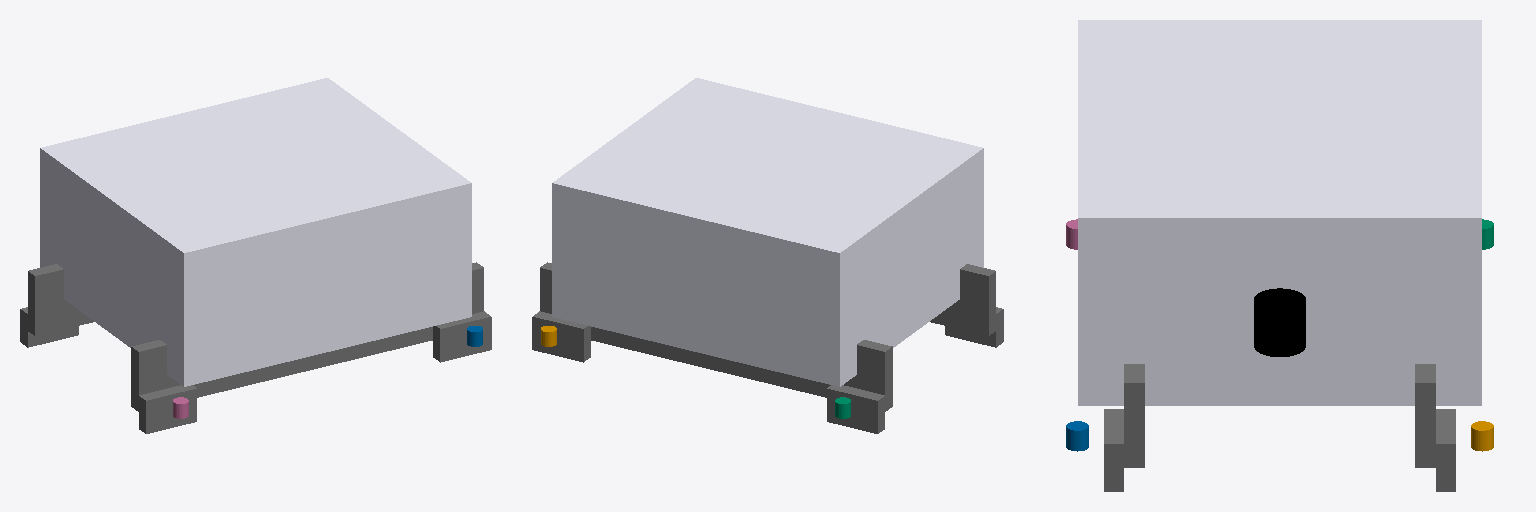
--- Facts derived from the render (not from the file) ---
3 views of the same robot in one strip: view 1: azimuth 30°, elevation 25°; view 2: azimuth 150°, elevation 25°; view 3: azimuth 270°, elevation 25° (orthographic).
Model pf1 with 20 links and 19 joints (4 continuous, 15 fixed), rooted at base_link, posed every joint at zero.
Visible links, largest first — view 1: base_link, frame1_br, frame1_bl, frame1_fr, frame2_br, frame2_fr, frame2_bl; view 2: base_link, frame1_bl, frame1_br, frame1_fl, frame2_bl, frame2_fl, frame2_br; view 3: base_link, front_lidar, frame1_fl, frame1_fr, frame2_fl, frame2_fr, right_front_wheel, left_front_wheel.
Boxes of the visible links, x1,y1,x2,y2 form: base_link: [40, 78, 471, 386]; frame1_br: [131, 340, 310, 411]; frame1_bl: [28, 264, 93, 335]; frame1_fr: [311, 262, 483, 369]; frame2_br: [139, 385, 196, 433]; frame2_fr: [433, 311, 491, 362]; frame2_bl: [20, 307, 78, 347]; base_link: [552, 78, 983, 386]; frame1_bl: [713, 340, 892, 411]; frame1_br: [930, 264, 995, 335]; frame1_fl: [540, 262, 712, 369]; frame2_bl: [827, 385, 884, 433]; frame2_fl: [532, 311, 590, 362]; frame2_br: [945, 307, 1003, 347]; base_link: [1078, 20, 1481, 405]; front_lidar: [1254, 288, 1305, 356]; frame1_fl: [1415, 364, 1435, 467]; frame1_fr: [1124, 364, 1144, 467]; frame2_fl: [1436, 409, 1455, 491]; frame2_fr: [1104, 409, 1123, 491]; right_front_wheel: [1066, 421, 1088, 451]; left_front_wheel: [1471, 421, 1493, 451].
Bounding box of the posed robot: 0.545 × 0.412 × 0.27 m (x, y, z).
Meshes: 1 distinct files referenced, 0 mesh visuals loaded (none loaded); not drawn: 4 (reference not matched to a file when rendering).

The robot description file, URDF, robot "pf1":
<?xml version="1.0" encoding="utf-8"?>
<!-- =================================================================================== -->
<!-- |    This document was autogenerated by xacro from pf1.xacro                      | -->
<!-- |    EDITING THIS FILE BY HAND IS NOT RECOMMENDED                                 | -->
<!-- =================================================================================== -->
<robot name="pf1">
  <material name="base_link">
    <color rgba="0.95 0.95 1.0 1.0"/>
  </material>
  <material name="lidar">
    <color rgba="0.0 0.0 0.0 1.0"/>
  </material>
  <material name="frame">
    <color rgba="0.5 0.5 0.5 1.0"/>
  </material>
  <material name="gear">
    <color rgba="0.0 0.4 1.0 1.0"/>
  </material>
  <material name="motor">
    <color rgba="0.3 0.3 0.3 1.0"/>
  </material>
  <material name="wheel">
    <color rgba="0.15 0.15 0.15 1.0"/>
  </material>
  <!-- base_footprint-->
  <!-- <link name="base_footprint"/>

  <joint name="base_joint" type="fixed">
    <parent link="base_footprint"/>
    <child link="base_link"/>
    <origin xyz="0.0 0.0 0.47" rpy="0 0 0"/>
  </joint> -->
  <!-- base_link -->
  <link name="base_link">
    <visual>
      <geometry>
        <box size="0.45 0.39 0.2"/>
      </geometry>
      <origin rpy="0 0 0" xyz="0 0 0"/>
      <material name="base_link"/>
    </visual>
    <inertial>
      <mass value="5.0"/>
      <inertia ixx="1.0" ixy="0.0" ixz="0.0" iyy="1.0" iyz="0.0" izz="1.0"/>
    </inertial>
  </link>
  <gazebo reference="base_link">
    <turnGravityOff>false</turnGravityOff>
  </gazebo>
  <!-- imu_link -->
  <joint name="imu_link_to_base_link" type="fixed">
    <parent link="base_link"/>
    <child link="imu_link"/>
    <origin rpy="0 0 0" xyz="-0 0 0"/>
  </joint>
  <link name="imu_link">
    <visual>
      <origin rpy="0 0 0" xyz="0 0 0.0"/>
      <geometry>
        <cylinder length="0.01" radius="0.005"/>
      </geometry>
      <material name="lidar"/>
    </visual>
  </link>
  <gazebo reference="imu_link">
    <gravity>true</gravity>
    <sensor name="imu_sensor" type="imu">
      <always_on>true</always_on>
      <update_rate>100</update_rate>
      <visualize>true</visualize>
      <topic>data</topic>
      <plugin filename="libgazebo_ros_imu_sensor.so" name="imu_plugin">
        <topicName>imu/data</topicName>
        <bodyName>imu_link</bodyName>
        <updateRateHZ>10.0</updateRateHZ>
        <gaussianNoise>0.0</gaussianNoise>
        <xyzOffset>0 0 0</xyzOffset>
        <rpyOffset>0 0 0</rpyOffset>
        <frameName>imu_link</frameName>
      </plugin>
      <pose>0 0 0 0 0 0</pose>
    </sensor>
  </gazebo>
  <!-- base_scan -->
  <joint name="base_link_to_base_scan" type="fixed">
    <parent link="base_link"/>
    <child link="base_scan"/>
    <origin rpy="0 0 0" xyz="-0 0 0"/>
  </joint>
  <link name="base_scan">
    <visual>
      <origin rpy="0 0 0" xyz="0 0 0.0"/>
      <geometry>
        <cylinder length="0.01" radius="0.005"/>
      </geometry>
      <material name="lidar"/>
    </visual>
  </link>
  <!-- front_lidar -->
  <joint name="front_lidar_to_base_scan" type="fixed">
    <parent link="base_scan"/>
    <child link="front_lidar"/>
    <origin rpy="0 0 0" xyz="0.25 0 0"/>
  </joint>
  <link name="front_lidar">
    <visual>
      <origin rpy="0 0 0" xyz="0 0 0.0"/>
      <geometry>
        <cylinder length="0.05" radius="0.025"/>
      </geometry>
      <material name="lidar"/>
    </visual>
  </link>
  <gazebo reference="hokuyo_sensor">
    <sensor name="base_link_hokuyo_sensor" type="gpu_ray">
      <pose>0 0 0 0 0 0</pose>
      <!--visualize>true</visualize-->
      <visualize>false</visualize>
      <update_rate>40</update_rate>
      <ray>
        <scan>
          <horizontal>
            <samples>400</samples>
            <resolution>1</resolution>
            <min_angle>-2.61799387799</min_angle>
            <max_angle>2.61799387799</max_angle>
            <!--<min_angle>-1.570796</min_angle>
            <max_angle>1.570796</max_angle>-->
          </horizontal>
        </scan>
        <range>
          <min>0.10</min>
          <max>30.0</max>
          <resolution>0.01</resolution>
        </range>
        <noise>
          <type>gaussian</type>
          <stddev>0.01</stddev>
        </noise>
      </ray>
      <plugin filename="libgazebo_ros_gpu_laser.so" name="gazebo_ros_lidar_controller">
        <topicName>/scan</topicName>
        <frameName>front_lidar</frameName>
      </plugin>
    </sensor>
  </gazebo>
  <!-- leg_fl -->
  <joint name="frame1_fl_to_base_link" type="fixed">
    <parent link="base_link"/>
    <child link="frame1_fl"/>
    <origin rpy="0 0 0" xyz="0 0.14 -0.1"/>
  </joint>
  <link name="frame1_fl">
    <visual>
      <geometry>
        <box size="0.27 0.02 0.09"/>
      </geometry>
      <origin rpy="0 0 0" xyz="0.135 0 0"/>
      <material name="frame"/>
    </visual>
  </link>
  <joint name="frame2_fl_to_frame1_fl" type="fixed">
    <parent link="frame1_fl"/>
    <child link="frame2_fl"/>
    <origin rpy="0 0 0" xyz="0.23 0.02 -0.045"/>
  </joint>
  <link name="frame2_fl">
    <visual>
      <geometry>
        <box size="0.08 0.02 0.05"/>
      </geometry>
      <origin rpy="0 0 0" xyz="0 0 0"/>
      <material name="frame"/>
    </visual>
  </link>
  <!-- <joint name="gear_fl_to_frame2_fl" type="fixed">
    <parent link="frame2_fl"/>
    <child  link="gear_fl"/>
    <origin xyz="0 0.035 -0.06" rpy="0 0 0"/>
  </joint>
  <link name="gear_fl">
    <visual>
      <geometry>
        <box size="0.075 0.09 0.07"/>
      </geometry>
      <origin xyz="0 0 0" rpy="0 0 0"/>
      <material name="gear"/>
    </visual>
  </link>

  <joint name="frame3_fl_to_gear_fl" type="revolute">
    <parent link="gear_fl"/>
    <child  link="frame3_fl"/>
    <axis xyz="0 0 1"/>
    <origin xyz="0 0 -0.08" rpy="0 0 0"/>
    <limit lower="-3.1415" upper="3.1415" effort="0" velocity="0"/>
  </joint>
  <link name="frame3_fl">
    <visual>
      <geometry>
        <box size="0.075 0.09 0.09"/>
      </geometry>
      <origin xyz="0 0 0" rpy="0 0 0"/>
      <material name="frame"/>
    </visual>
  </link>

  <joint name="motor_fl_to_frame3_fl" type="fixed">
    <parent link="frame3_fl"/>
    <child  link="motor_fl"/>
    <origin xyz="0 -0.02 -0.09" rpy="0 0 0"/>
  </joint>
  <link name="motor_fl">
    <visual>
      <geometry>
        <box size="0.075 0.09 0.09"/>
      </geometry>
      <material name="motor"/>
    </visual>
  </link> 

 <joint name="wheel_fl_to_motor_fl" type="revolute">
    <parent link="motor_fl"/>
    <child  link="wheel_fl"/>
    <origin xyz="0 0.09 0" rpy="0 0 0"/>
    <axis xyz="0 1 0"/>
    <limit lower="-3.1415" upper="3.1415" effort="0" velocity="0"/>
  </joint>
  <link name="wheel_fl">
    <visual>
      <geometry>
        <cylinder length="0.09" radius="0.1"/>
      </geometry>
      <origin xyz="0 0 0" rpy="1.57 0 0"/>
      <material name="wheel"/>
    </visual>
  </link> -->
  <!-- leg_bl : mirror leg_fl to the y axis -->
  <joint name="frame1_bl_to_base_link" type="fixed">
    <parent link="base_link"/>
    <child link="frame1_bl"/>
    <origin rpy="0 0 0" xyz="0 0.14 -0.1"/>
  </joint>
  <link name="frame1_bl">
    <visual>
      <geometry>
        <box size="0.27 0.02 0.09"/>
      </geometry>
      <origin rpy="0 0 0" xyz="-0.135 0 0"/>
      <material name="frame"/>
    </visual>
  </link>
  <joint name="frame2_bl_to_frame1_bl" type="fixed">
    <parent link="frame1_bl"/>
    <child link="frame2_bl"/>
    <origin rpy="0 0 0" xyz="-0.23 0.02 -0.045"/>
  </joint>
  <link name="frame2_bl">
    <visual>
      <geometry>
        <box size="0.08 0.02 0.05"/>
      </geometry>
      <origin rpy="0 0 0" xyz="0 0 0"/>
      <material name="frame"/>
    </visual>
  </link>
  <!-- <joint name="gear_bl_to_frame2_bl" type="fixed">
    <parent link="frame2_bl"/>
    <child  link="gear_bl"/>
    <origin xyz="0 0.035 -0.06" rpy="0 0 0"/>
  </joint>
  <link name="gear_bl">
    <visual>
      <geometry>
        <box size="0.075 0.09 0.07"/>
      </geometry>
      <origin xyz="0 0 0" rpy="0 0 0"/>
      <material name="gear"/>
    </visual>
  </link>

  <joint name="frame3_bl_to_gear_bl" type="revolute">
    <parent link="gear_bl"/>
    <child  link="frame3_bl"/>
    <axis xyz="0 0 1"/>
    <origin xyz="0 0 -0.08" rpy="0 0 0"/>
    <limit lower="-3.1415" upper="3.1415" effort="0" velocity="0"/>
  </joint>
  <link name="frame3_bl">
    <visual>
      <geometry>
        <box size="0.075 0.09 0.09"/>
      </geometry>
      <origin xyz="0 0 0" rpy="0 0 0"/>
      <material name="frame"/>
    </visual>
  </link>

  <joint name="motor_bl_to_frame3_bl" type="fixed">
    <parent link="frame3_bl"/>
    <child  link="motor_bl"/>
    <origin xyz="0 -0.02 -0.09" rpy="0 0 0"/>
  </joint>
  <link name="motor_bl">
    <visual>
      <geometry>
        <box size="0.075 0.09 0.09"/>
      </geometry>
      <material name="motor"/>
    </visual>
  </link>

  <joint name="wheel_bl_to_motor_bl" type="revolute">
    <parent link="motor_bl"/>
    <child  link="wheel_bl"/>
    <origin xyz="0 0.09 0" rpy="0 0 0"/>
    <axis xyz="0 1 0"/>
    <limit lower="-3.1415" upper="3.1415" effort="0" velocity="0"/>
  </joint>
  <link name="wheel_bl">
    <visual>
      <geometry>
        <cylinder length="0.09" radius="0.1"/>
      </geometry>
      <origin xyz="0 0 0" rpy="1.57 0 0"/>
      <material name="wheel"/>
    </visual>
  </link> -->
  <!-- leg_fr -->
  <joint name="frame1_fr_to_base_link" type="fixed">
    <parent link="base_link"/>
    <child link="frame1_fr"/>
    <origin rpy="0 0 0" xyz="0 -0.14 -0.1"/>
  </joint>
  <link name="frame1_fr">
    <visual>
      <geometry>
        <box size="0.27 0.02 0.09"/>
      </geometry>
      <origin rpy="0 0 0" xyz="0.135 0 0"/>
      <material name="frame"/>
    </visual>
  </link>
  <joint name="frame2_fr_to_frame1_fr" type="fixed">
    <parent link="frame1_fr"/>
    <child link="frame2_fr"/>
    <origin rpy="0 0 0" xyz="0.23 -0.02 -0.045"/>
  </joint>
  <link name="frame2_fr">
    <visual>
      <geometry>
        <box size="0.08 0.02 0.05"/>
      </geometry>
      <origin rpy="0 0 0" xyz="0 0 0"/>
      <material name="frame"/>
    </visual>
  </link>
  <!-- <joint name="gear_fr_to_frame2_fr" type="fixed">
    <parent link="frame2_fr"/>
    <child  link="gear_fr"/>
    <origin xyz="0 -0.035 -0.06" rpy="0 0 0"/>
  </joint>
  <link name="gear_fr">
    <visual>
      <geometry>
        <box size="0.075 0.09 0.07"/>
      </geometry>
      <origin xyz="0 0 0" rpy="0 0 0"/>
      <material name="gear"/>
    </visual>
  </link>

  <joint name="frame3_fr_to_gear_fr" type="revolute">
    <parent link="gear_fr"/>
    <child  link="frame3_fr"/>
    <axis xyz="0 0 1"/>
    <origin xyz="0 0 -0.08" rpy="0 0 0"/>
    <limit lower="-3.1415" upper="3.1415" effort="0" velocity="0"/>
  </joint>
  <link name="frame3_fr">
    <visual>
      <geometry>
        <box size="0.075 0.09 0.09"/>
      </geometry>
      <origin xyz="0 0 0" rpy="0 0 0"/>
      <material name="frame"/>
    </visual>
  </link>

  <joint name="motor_fr_to_frame3_fr" type="fixed">
    <parent link="frame3_fr"/>
    <child  link="motor_fr"/>
    <origin xyz="0 0.02 -0.09" rpy="0 0 0"/>
  </joint>
  <link name="motor_fr">
    <visual>
      <geometry>
        <box size="0.075 0.09 0.09"/>
      </geometry>
      <material name="motor"/>
    </visual>
  </link>

  <joint name="wheel_fr_to_motor_fr" type="revolute">
    <parent link="motor_fr"/>
    <child  link="wheel_fr"/>
    <origin xyz="0 -0.09 0" rpy="0 0 0"/>
    <axis xyz="0 1 0"/>
    <limit lower="-3.1415" upper="3.1415" effort="0" velocity="0"/>
  </joint>
  <link name="wheel_fr">
    <visual>
      <geometry>
        <cylinder length="0.09" radius="0.1"/>
      </geometry>
      <origin xyz="0 0 0" rpy="1.57 0 0"/>
      <material name="wheel"/>
    </visual>
  </link> -->
  <!-- leg_br -->
  <joint name="frame1_br_to_base_link" type="fixed">
    <parent link="base_link"/>
    <child link="frame1_br"/>
    <origin rpy="0 0 0" xyz="0 -0.14 -0.1"/>
  </joint>
  <link name="frame1_br">
    <visual>
      <geometry>
        <box size="0.27 0.02 0.09"/>
      </geometry>
      <origin rpy="0 0 0" xyz="-0.135 0 0"/>
      <material name="frame"/>
    </visual>
  </link>
  <joint name="frame2_br_to_frame1_br" type="fixed">
    <parent link="frame1_br"/>
    <child link="frame2_br"/>
    <origin rpy="0 0 0" xyz="-0.23 -0.02 -0.045"/>
  </joint>
  <link name="frame2_br">
    <visual>
      <geometry>
        <box size="0.08 0.02 0.05"/>
      </geometry>
      <origin rpy="0 0 0" xyz="0 0 0"/>
      <material name="frame"/>
    </visual>
  </link>
  <!-- <joint name="gear_br_to_frame2_br" type="fixed">
    <parent link="frame2_br"/>
    <child  link="gear_br"/>
    <origin xyz="0 -0.035 -0.06" rpy="0 0 0"/>
  </joint>
  <link name="gear_br">
    <visual>
      <geometry>
        <box size="0.075 0.09 0.07"/>
      </geometry>
      <origin xyz="0 0 0" rpy="0 0 0"/>
      <material name="gear"/>
    </visual>
  </link>

  <joint name="frame3_br_to_gear_br" type="revolute">
    <parent link="gear_br"/>
    <child  link="frame3_br"/>
    <axis xyz="0 0 1"/>
    <origin xyz="0 0 -0.08" rpy="0 0 0"/>
    <limit lower="-3.1415" upper="3.1415" effort="0" velocity="0"/>
  </joint>
  <link name="frame3_br">
    <visual>
      <geometry>
        <box size="0.075 0.09 0.09"/>
      </geometry>
      <origin xyz="0 0 0" rpy="0 0 0"/>
      <material name="frame"/>
    </visual>
  </link>

  <joint name="motor_br_to_frame3_br" type="fixed">
    <parent link="frame3_br"/>
    <child  link="motor_br"/>
    <origin xyz="0 0.02 -0.09" rpy="0 0 0"/>
  </joint>
  <link name="motor_br">
    <visual>
      <geometry>
        <box size="0.075 0.09 0.09"/>
      </geometry>
      <material name="motor"/>
    </visual>
  </link>

  <joint name="wheel_br_to_motor_br" type="revolute">
    <parent link="motor_br"/>
    <child  link="wheel_br"/>
    <origin xyz="0 -0.09 0" rpy="0 0 0"/>
    <axis xyz="0 1 0"/>
    <limit lower="-3.1415" upper="3.1415" effort="0" velocity="0"/>
  </joint>
  <link name="wheel_br">
    <visual>
      <geometry>
        <cylinder length="0.09" radius="0.1"/>
      </geometry>
      <origin xyz="0 0 0" rpy="1.57 0 0"/>
      <material name="wheel"/>
    </visual>
  </link> -->
  <link name="right_front_wheel">
    <visual>
      <origin rpy="0 0 0" xyz="0 0 0"/>
      <geometry>
        <cylinder length="0.022" radius="0.011"/>
      </geometry>
      <material name="Black"/>
    </visual>
    <collision>
      <origin rpy="0 0 0" xyz="0 0 0"/>
      <geometry>
        <cylinder length="0.022" radius="0.011"/>
      </geometry>
    </collision>
    <inertial>
      <mass value="0.2"/>
      <inertia ixx="2.48722222222e-05" ixy="0.0" ixz="0.0" iyy="2.48722222222e-05" iyz="0.0" izz="3.36111111111e-05"/>
    </inertial>
  </link>
  <link name="right_front_wheel1">
    <visual>
      <origin rpy="1.57 0 0" xyz="0 0 0"/>
      <geometry>
        <mesh filename="package://diff_drive/meshes/tyre11.dae"/>
        <cylinder length="0.02" radius="0.05"/>
      </geometry>
      <material name="Black"/>
    </visual>
    <collision>
      <origin rpy="1.57 0 0" xyz="0 0 0"/>
      <geometry>
        <cylinder length="0.02" radius="0.05"/>
        <mesh filename="package://diff_drive/meshes/tyre11.dae"/>
      </geometry>
    </collision>
    <inertial>
      <mass value="0.2"/>
      <inertia ixx="0.000159316666667" ixy="0.0" ixz="0.0" iyy="0.000159316666667" iyz="0.0" izz="0.0003025"/>
    </inertial>
  </link>
  <gazebo reference="right_front_wheel1">
    <material>Gazebo/Black</material>
    <turnGravityOff>false</turnGravityOff>
  </gazebo>
  <joint name="right_front_wheel_joint1" type="fixed">
    <parent link="right_front_wheel"/>
    <child link="right_front_wheel1"/>
    <origin rpy="0 0 0" xyz="0 0 0"/>
  </joint>
  <gazebo reference="right_front_wheel">
    <mu1 value="200.0"/>
    <mu2 value="100.0"/>
    <kp value="10000000.0"/>
    <kd value="1.0"/>
    <material>Gazebo/Black</material>
  </gazebo>
  <joint name="right_front_wheel_joint" type="continuous">
    <parent link="frame2_fr"/>
    <child link="right_front_wheel"/>
    <origin rpy="0 0 0" xyz="0 -0.035  0.015"/>
    <axis xyz="0 1 0"/>
    <limit effort="100" velocity="100"/>
    <dynamics damping="0.0" friction="0.0"/>
  </joint>
  <transmission name="right_front_wheel_trans">
    <type>transmission_interface/SimpleTransmission</type>
    <actuator name="right_front_wheel_motor">
      <hardwareInterface>EffortJointInterface</hardwareInterface>
      <mechanicalReduction>1</mechanicalReduction>
    </actuator>
    <joint name="right_front_wheel_joint">
      <hardwareInterface>VelocityJointInterface</hardwareInterface>
    </joint>
  </transmission>
  <link name="right_back_wheel">
    <visual>
      <origin rpy="0 0 0" xyz="0 0 0"/>
      <geometry>
        <cylinder length="0.022" radius="0.011"/>
      </geometry>
      <material name="Black"/>
    </visual>
    <collision>
      <origin rpy="0 0 0" xyz="0 0 0"/>
      <geometry>
        <cylinder length="0.022" radius="0.011"/>
      </geometry>
    </collision>
    <inertial>
      <mass value="0.2"/>
      <inertia ixx="2.48722222222e-05" ixy="0.0" ixz="0.0" iyy="2.48722222222e-05" iyz="0.0" izz="3.36111111111e-05"/>
    </inertial>
  </link>
  <link name="right_back_wheel1">
    <visual>
      <origin rpy="1.57 0 0" xyz="0 0 0"/>
      <geometry>
        <mesh filename="package://diff_drive/meshes/tyre11.dae"/>
        <cylinder length="0.02" radius="0.05"/>
      </geometry>
      <material name="Black"/>
    </visual>
    <collision>
      <origin rpy="1.57 0 0" xyz="0 0 0"/>
      <geometry>
        <cylinder length="0.02" radius="0.05"/>
        <mesh filename="package://diff_drive/meshes/tyre11.dae"/>
      </geometry>
    </collision>
    <inertial>
      <mass value="0.2"/>
      <inertia ixx="0.000159316666667" ixy="0.0" ixz="0.0" iyy="0.000159316666667" iyz="0.0" izz="0.0003025"/>
    </inertial>
  </link>
  <gazebo reference="right_back_wheel1">
    <material>Gazebo/Black</material>
    <turnGravityOff>false</turnGravityOff>
  </gazebo>
  <joint name="right_back_wheel_joint1" type="fixed">
    <parent link="right_back_wheel"/>
    <child link="right_back_wheel1"/>
    <origin rpy="0 0 0" xyz="0 0 0"/>
  </joint>
  <gazebo reference="right_back_wheel">
    <mu1 value="200.0"/>
    <mu2 value="100.0"/>
    <kp value="10000000.0"/>
    <kd value="1.0"/>
    <material>Gazebo/Black</material>
  </gazebo>
  <joint name="right_back_wheel_joint" type="continuous">
    <parent link="frame2_br"/>
    <child link="right_back_wheel"/>
    <origin rpy="0 0 0" xyz="0 -0.035  0.015"/>
    <axis xyz="0 1 0"/>
    <limit effort="100" velocity="100"/>
    <dynamics damping="0.0" friction="0.0"/>
  </joint>
  <transmission name="right_back_wheel_trans">
    <type>transmission_interface/SimpleTransmission</type>
    <actuator name="right_back_wheel_motor">
      <hardwareInterface>EffortJointInterface</hardwareInterface>
      <mechanicalReduction>1</mechanicalReduction>
    </actuator>
    <joint name="right_back_wheel_joint">
      <hardwareInterface>VelocityJointInterface</hardwareInterface>
    </joint>
  </transmission>
  <link name="left_front_wheel">
    <visual>
      <origin rpy="0 0 0" xyz="0 0 0"/>
      <geometry>
        <cylinder length="0.022" radius="0.011"/>
      </geometry>
      <material name="Black"/>
    </visual>
    <collision>
      <origin rpy="0 0 0" xyz="0 0 0"/>
      <geometry>
        <cylinder length="0.022" radius="0.011"/>
      </geometry>
    </collision>
    <inertial>
      <mass value="0.2"/>
      <inertia ixx="2.48722222222e-05" ixy="0.0" ixz="0.0" iyy="2.48722222222e-05" iyz="0.0" izz="3.36111111111e-05"/>
    </inertial>
  </link>
  <link name="left_front_wheel1">
    <visual>
      <origin rpy="1.57 0 0" xyz="0 0 0"/>
      <geometry>
        <mesh filename="package://diff_drive/meshes/tyre11.dae"/>
        <cylinder length="0.02" radius="0.05"/>
      </geometry>
      <material name="Black"/>
    </visual>
    <collision>
      <origin rpy="1.57 0 0" xyz="0 0 0"/>
      <geometry>
        <cylinder length="0.02" radius="0.05"/>
        <mesh filename="package://diff_drive/meshes/tyre11.dae"/>
      </geometry>
    </collision>
    <inertial>
      <mass value="0.2"/>
      <inertia ixx="0.000159316666667" ixy="0.0" ixz="0.0" iyy="0.000159316666667" iyz="0.0" izz="0.0003025"/>
    </inertial>
  </link>
  <gazebo reference="left_front_wheel1">
    <material>Gazebo/Black</material>
    <turnGravityOff>false</turnGravityOff>
  </gazebo>
  <joint name="left_front_wheel_joint1" type="fixed">
    <parent link="left_front_wheel"/>
    <child link="left_front_wheel1"/>
    <origin rpy="0 0 0" xyz="0 0 0"/>
  </joint>
  <gazebo reference="left_front_wheel">
    <mu1 value="200.0"/>
    <mu2 value="100.0"/>
    <kp value="10000000.0"/>
    <kd value="1.0"/>
    <material>Gazebo/Black</material>
  </gazebo>
  <joint name="left_front_wheel_joint" type="continuous">
    <parent link="frame2_fl"/>
    <child link="left_front_wheel"/>
    <origin rpy="0 0 0" xyz="0 0.035  0.015"/>
    <axis xyz="0 1 0"/>
    <limit effort="100" velocity="100"/>
    <dynamics damping="0.0" friction="0.0"/>
  </joint>
  <transmission name="left_front_wheel_trans">
    <type>transmission_interface/SimpleTransmission</type>
    <actuator name="left_front_wheel_motor">
      <hardwareInterface>EffortJointInterface</hardwareInterface>
      <mechanicalReduction>1</mechanicalReduction>
    </actuator>
    <joint name="left_front_wheel_joint">
      <hardwareInterface>VelocityJointInterface</hardwareInterface>
    </joint>
  </transmission>
  <link name="left_back_wheel">
    <visual>
      <origin rpy="0 0 0" xyz="0 0 0"/>
      <geometry>
        <cylinder length="0.022" radius="0.011"/>
      </geometry>
      <material name="Black"/>
    </visual>
    <collision>
      <origin rpy="0 0 0" xyz="0 0 0"/>
      <geometry>
        <cylinder length="0.022" radius="0.011"/>
      </geometry>
    </collision>
    <inertial>
      <mass value="0.2"/>
      <inertia ixx="2.48722222222e-05" ixy="0.0" ixz="0.0" iyy="2.48722222222e-05" iyz="0.0" izz="3.36111111111e-05"/>
    </inertial>
  </link>
  <link name="left_back_wheel1">
    <visual>
      <origin rpy="1.57 0 0" xyz="0 0 0"/>
      <geometry>
        <mesh filename="package://diff_drive/meshes/tyre11.dae"/>
        <cylinder length="0.02" radius="0.05"/>
      </geometry>
      <material name="Black"/>
    </visual>
    <collision>
      <origin rpy="1.57 0 0" xyz="0 0 0"/>
      <geometry>
        <cylinder length="0.02" radius="0.05"/>
        <mesh filename="package://diff_drive/meshes/tyre11.dae"/>
      </geometry>
    </collision>
    <inertial>
      <mass value="0.2"/>
      <inertia ixx="0.000159316666667" ixy="0.0" ixz="0.0" iyy="0.000159316666667" iyz="0.0" izz="0.0003025"/>
    </inertial>
  </link>
  <gazebo reference="left_back_wheel1">
    <material>Gazebo/Black</material>
    <turnGravityOff>false</turnGravityOff>
  </gazebo>
  <joint name="left_back_wheel_joint1" type="fixed">
    <parent link="left_back_wheel"/>
    <child link="left_back_wheel1"/>
    <origin rpy="0 0 0" xyz="0 0 0"/>
  </joint>
  <gazebo reference="left_back_wheel">
    <mu1 value="200.0"/>
    <mu2 value="100.0"/>
    <kp value="10000000.0"/>
    <kd value="1.0"/>
    <material>Gazebo/Black</material>
  </gazebo>
  <joint name="left_back_wheel_joint" type="continuous">
    <parent link="frame2_bl"/>
    <child link="left_back_wheel"/>
    <origin rpy="0 0 0" xyz="0 0.035  0.015"/>
    <axis xyz="0 1 0"/>
    <limit effort="100" velocity="100"/>
    <dynamics damping="0.0" friction="0.0"/>
  </joint>
  <transmission name="left_back_wheel_trans">
    <type>transmission_interface/SimpleTransmission</type>
    <actuator name="left_back_wheel_motor">
      <hardwareInterface>EffortJointInterface</hardwareInterface>
      <mechanicalReduction>1</mechanicalReduction>
    </actuator>
    <joint name="left_back_wheel_joint">
      <hardwareInterface>VelocityJointInterface</hardwareInterface>
    </joint>
  </transmission>
  <gazebo>
    <plugin filename="libgazebo_ros_control.so" name="gazebo_ros_control">
      <robotNamespace>/</robotNamespace>
    </plugin>
  </gazebo>
</robot>
